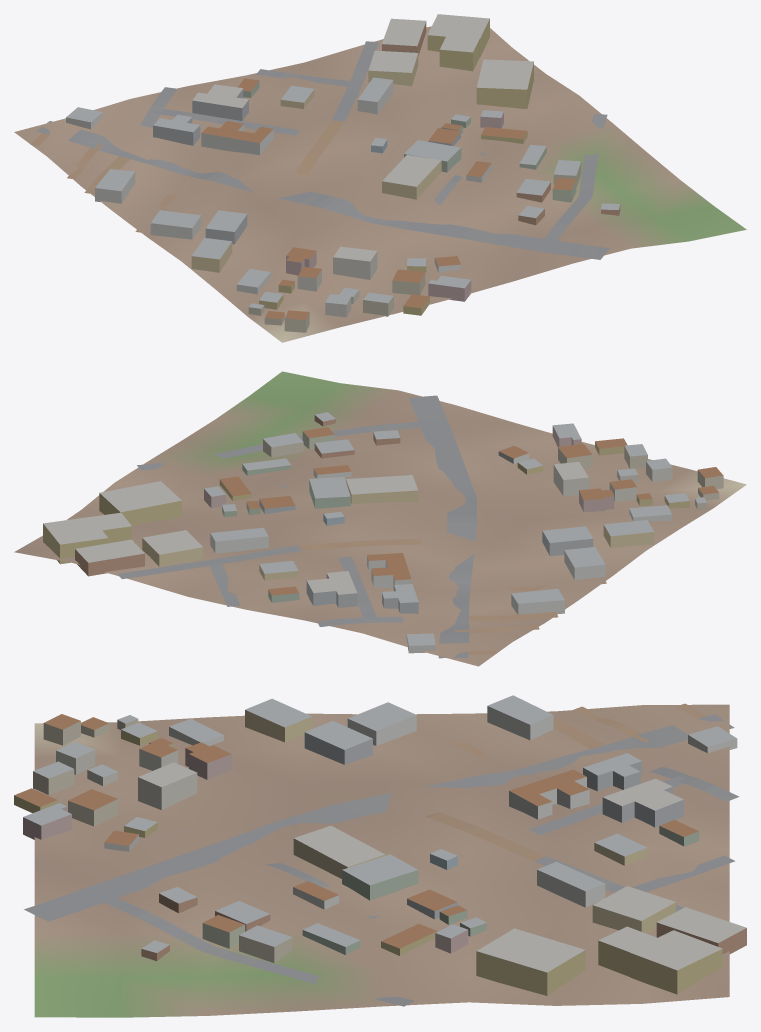
3 renders of one model, top to bottom at view 1: azimuth 30°, elevation 25°; view 2: azimuth 150°, elevation 25°; view 3: azimuth 270°, elevation 25°, orthographic. The views are drawn at different scales.
Visible parts, largest first — view 1: Lo; view 2: Lo; view 3: Lo.
Part boxes in pixels (x1,y1,x2,y2): Lo: (14,14,746,342); Lo: (14,371,746,666); Lo: (14,695,746,1017).
Bounding box in the file's own units: 260 × 16.92 × 270.
